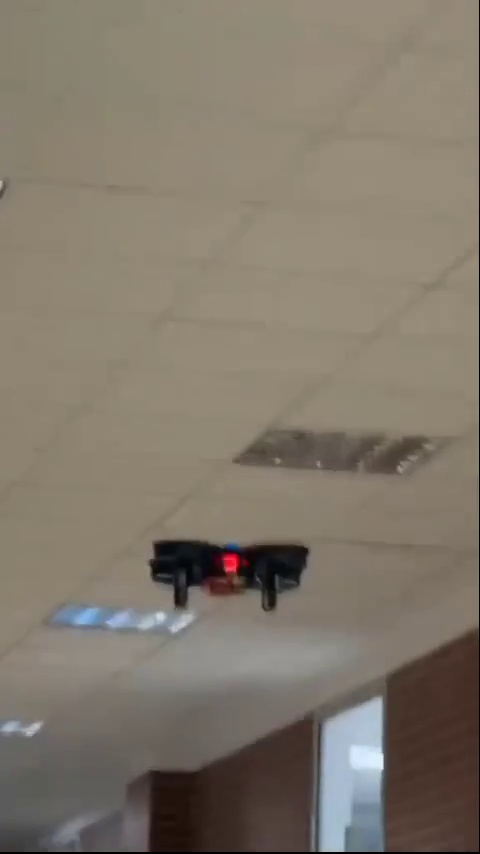drone: (149, 536, 309, 607)
